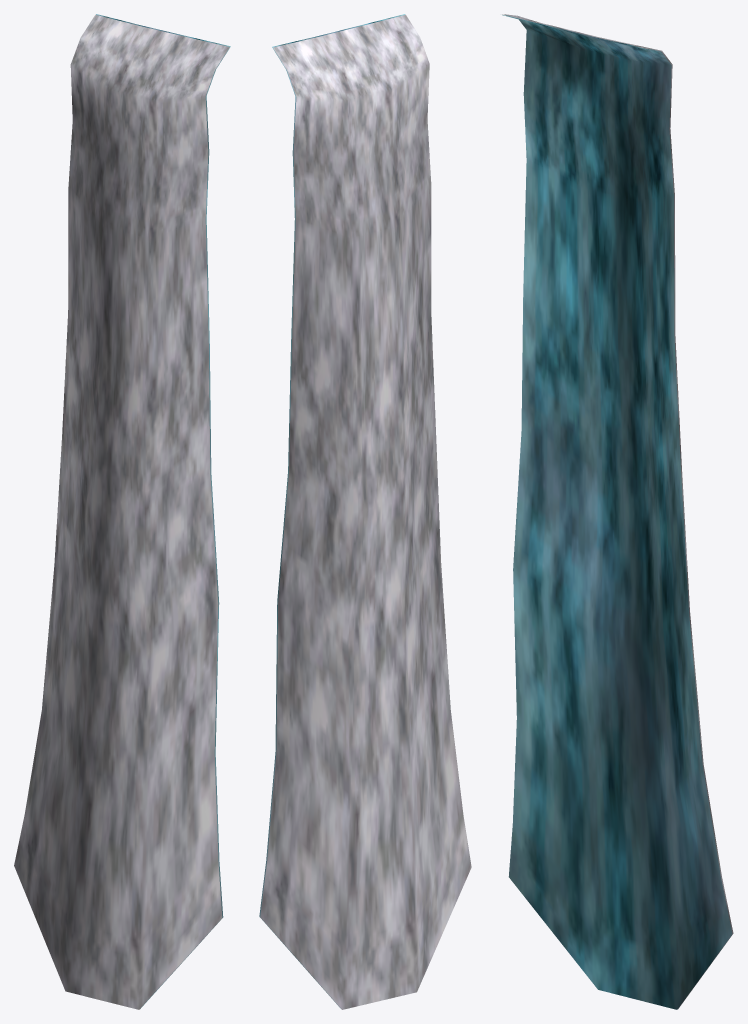
Rendered from OVERHILL_A_01_WATERFALLS06.fbx.
3 renders of one model, left to right at view 1: azimuth 90°, elevation 25°; view 2: azimuth 150°, elevation 25°; view 3: azimuth 270°, elevation 25°, orthographic. The views are drawn at different scales.
Parts seen in each view (by area): view 1: OVERHILL_A_01_WATERFALLS06; view 2: OVERHILL_A_01_WATERFALLS06; view 3: OVERHILL_A_01_WATERFALLS06.
Boxes of the visible parts, x1,y1,x2,y2 form: OVERHILL_A_01_WATERFALLS06: (14,14,230,1009); OVERHILL_A_01_WATERFALLS06: (259,14,471,1009); OVERHILL_A_01_WATERFALLS06: (502,14,733,1009).
Size of the model in its own units: 33201 by 215450 by 45281.
Materials: 2 (2 with a texture image).
